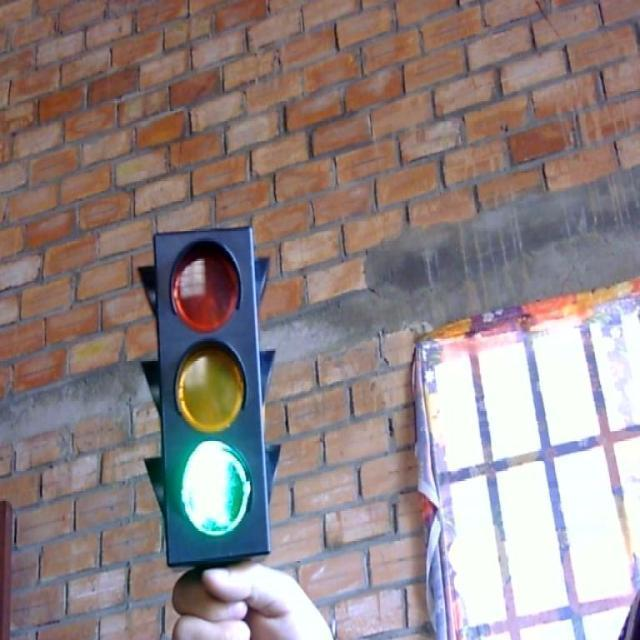green_light: (139, 225, 274, 564)
